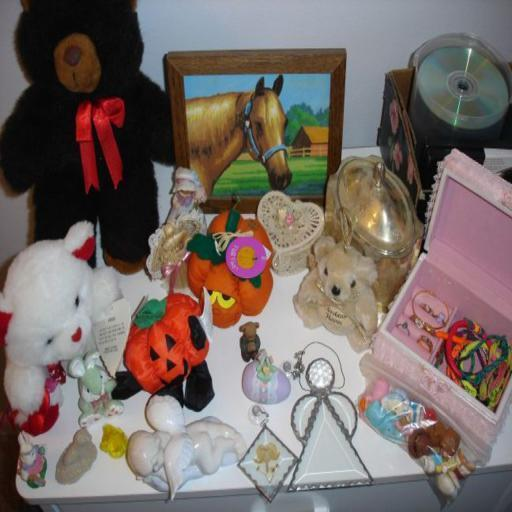horse: (182, 74, 294, 200)
